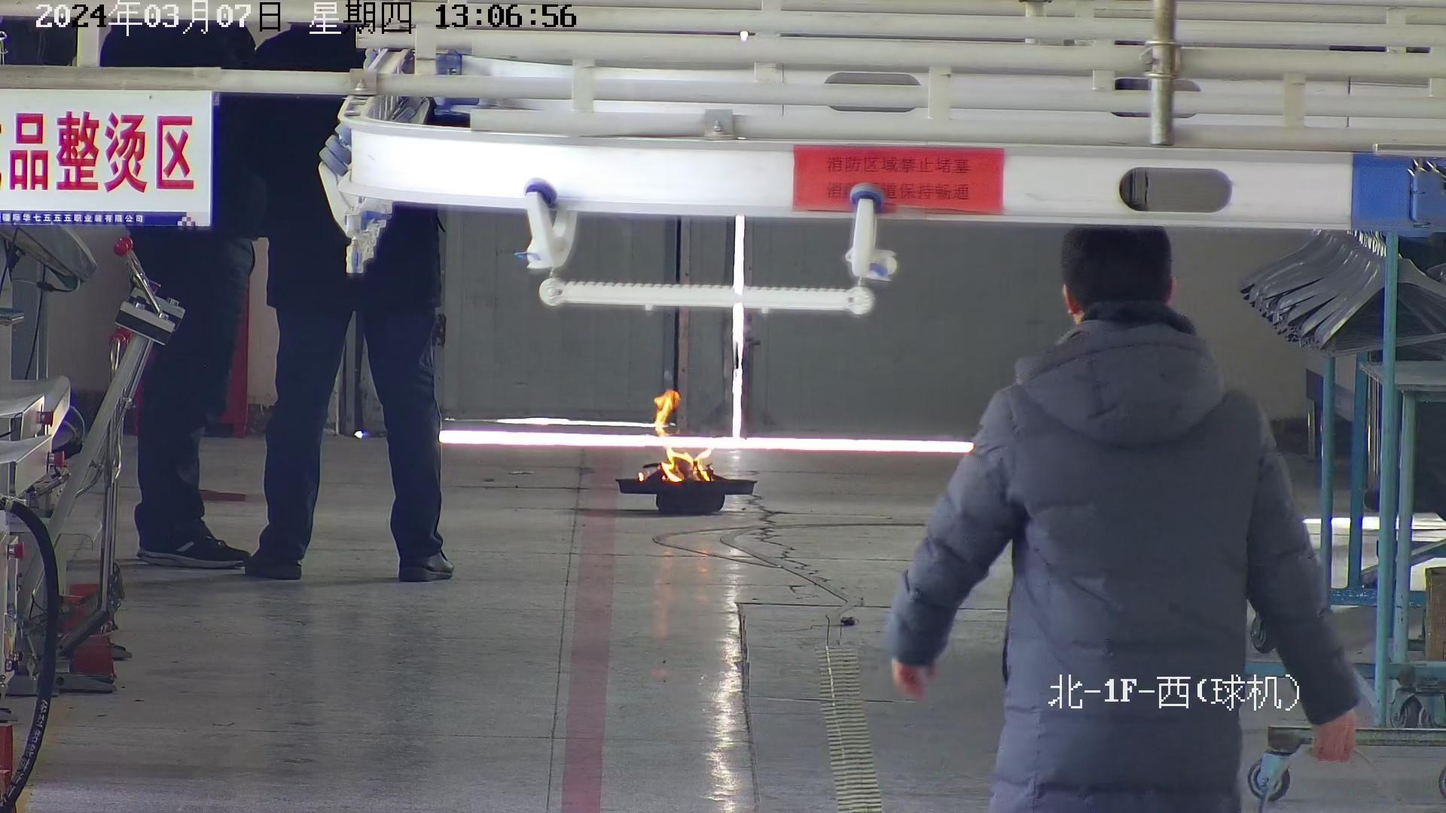fire: (651, 445, 713, 483), (654, 389, 680, 438)
